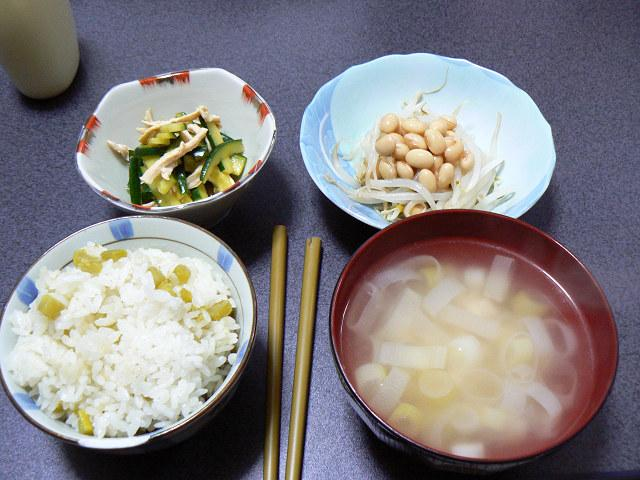rice: (10, 244, 239, 438)
